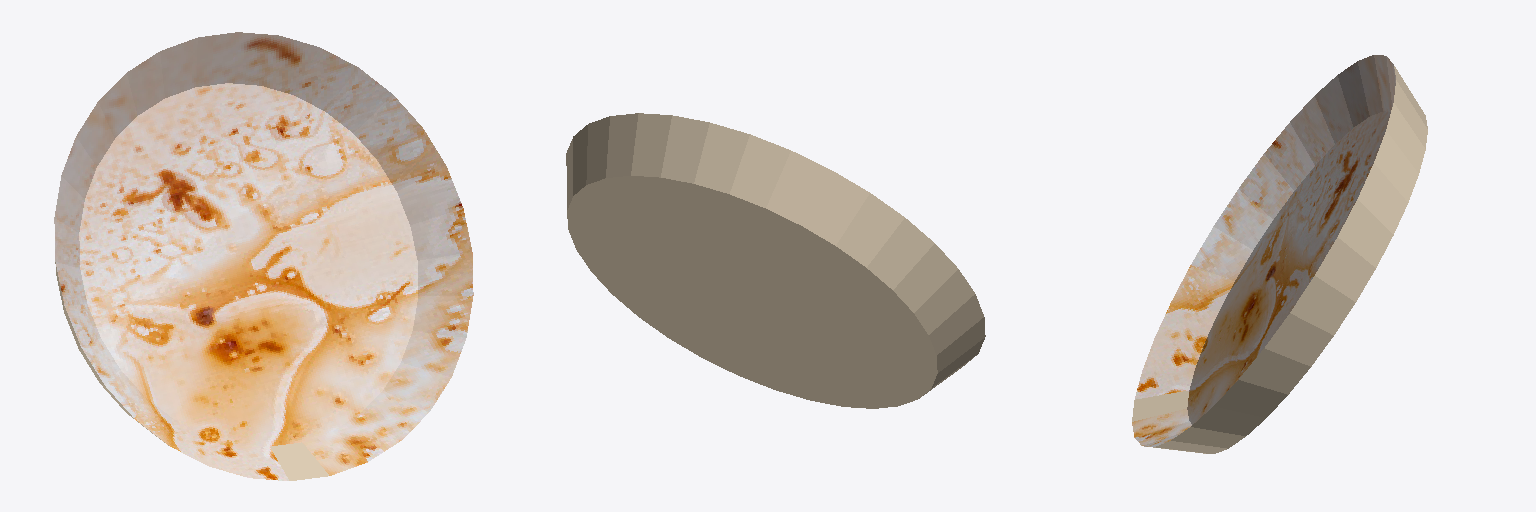
3 renders of one model, left to right at view 1: azimuth 30°, elevation 25°; view 2: azimuth 150°, elevation 25°; view 3: azimuth 270°, elevation 25°, orthographic.
Parts seen in each view (by area): view 1: Cilindro.019_Cilindro.056; view 2: Cilindro.019_Cilindro.056; view 3: Cilindro.019_Cilindro.056.
Boxes of the visible parts, box(x1,y1,x2,y2) form: Cilindro.019_Cilindro.056: box(54, 32, 473, 480); Cilindro.019_Cilindro.056: box(566, 113, 985, 408); Cilindro.019_Cilindro.056: box(1132, 55, 1427, 453).
Bounding box in the file's own units: 0.24 × 0.2024 × 0.1542.
Materials: 2 (2 with a texture image).